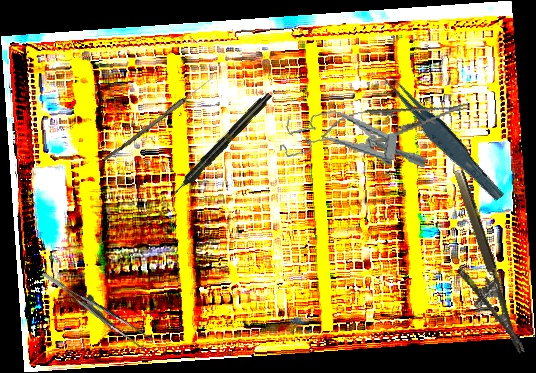Handpiece: (169, 90, 275, 198)
Needle Holder: (428, 167, 526, 365), (317, 88, 473, 156)
Speculum: (278, 102, 432, 180)
Surgical Spoon: (103, 74, 215, 164)
Tissue Forceps: (378, 61, 506, 210), (41, 254, 154, 361)
